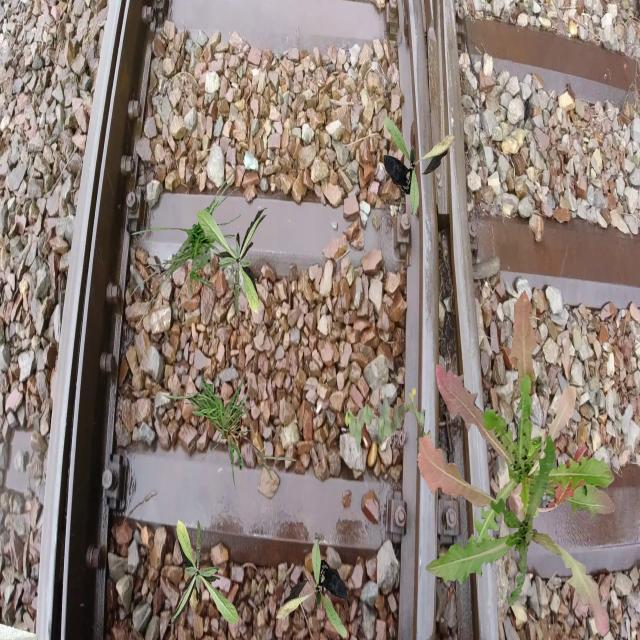Plant: (436, 289, 616, 567), (417, 433, 610, 636), (130, 165, 248, 328), (153, 372, 296, 492), (167, 519, 238, 627), (197, 208, 268, 316), (276, 539, 348, 638), (383, 116, 454, 215), (344, 386, 431, 454), (507, 434, 542, 518)
